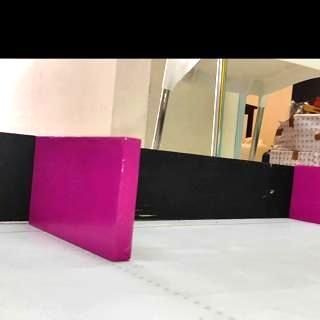xparking: (37, 137, 142, 263), (293, 166, 320, 223)
